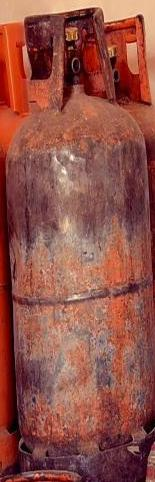cylinder: (1, 1, 155, 482)
